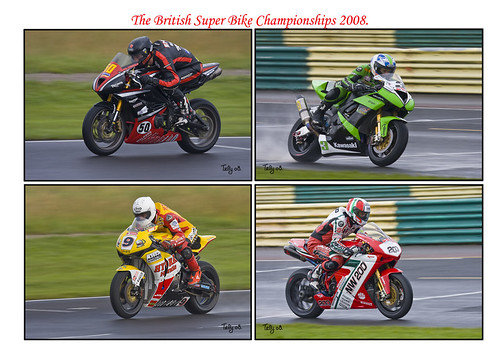helmet: (345, 194, 374, 221), (127, 34, 152, 62), (130, 193, 154, 221), (369, 53, 396, 75)
